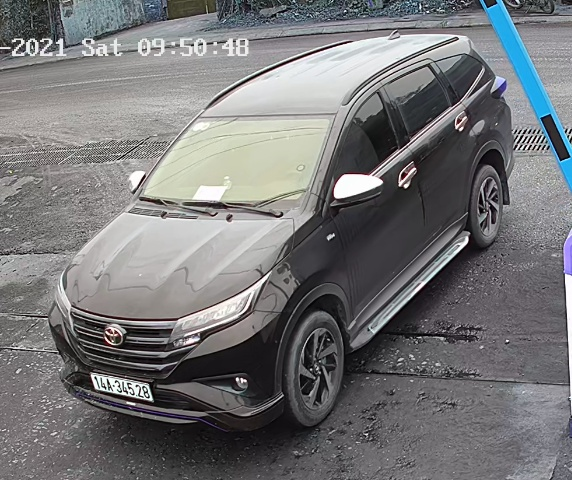vehicle plate: (83, 367, 164, 405)
